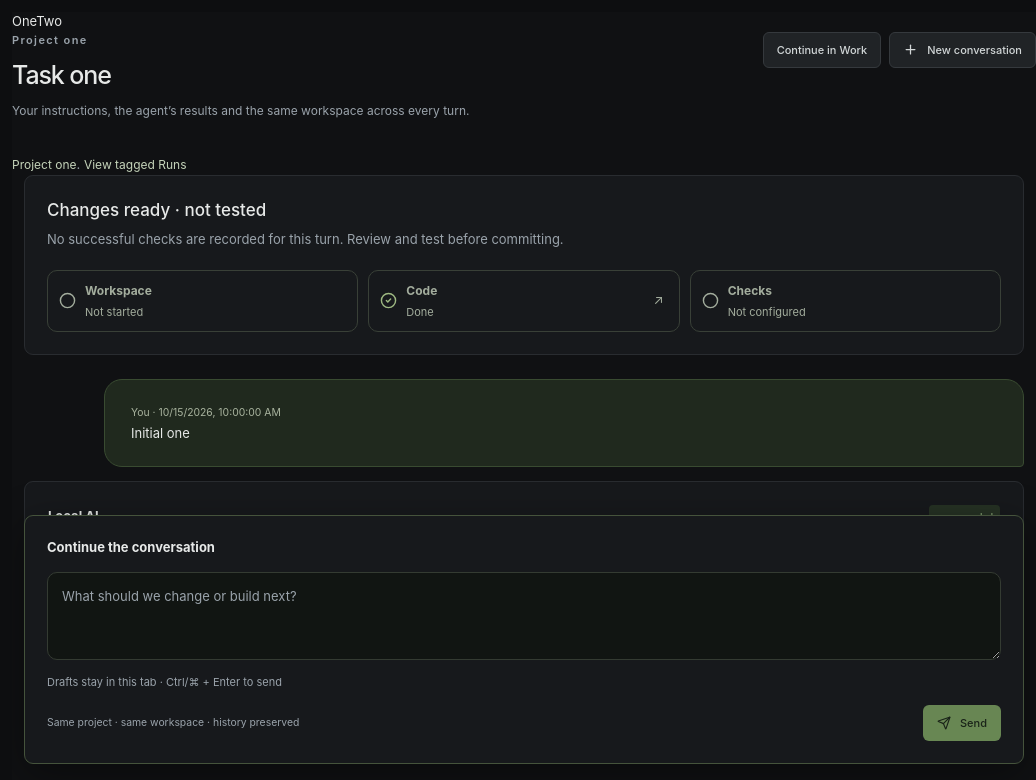
Test case: preserves a newer draft written while an earlier Send is pending
Type "Submitted instruction" into the text box named "Follow-up instruction". click: [524, 616]
box: [47,572,1001,660]
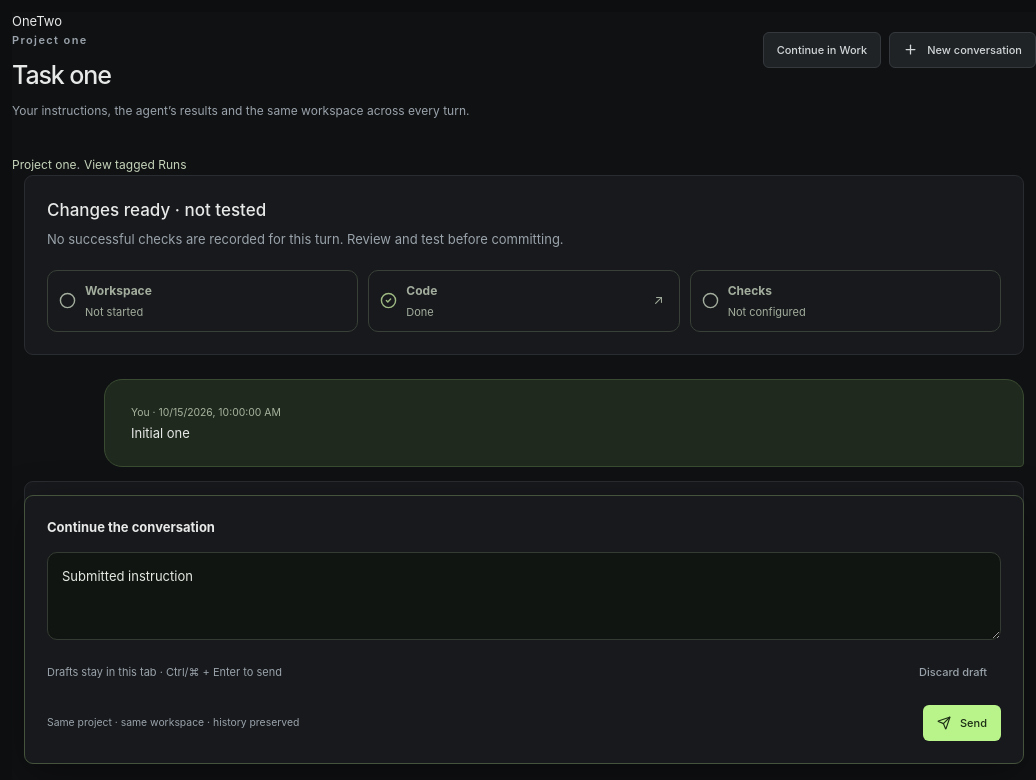
Click the button "Send". click: [962, 723]
box: [923,704,1001,741]
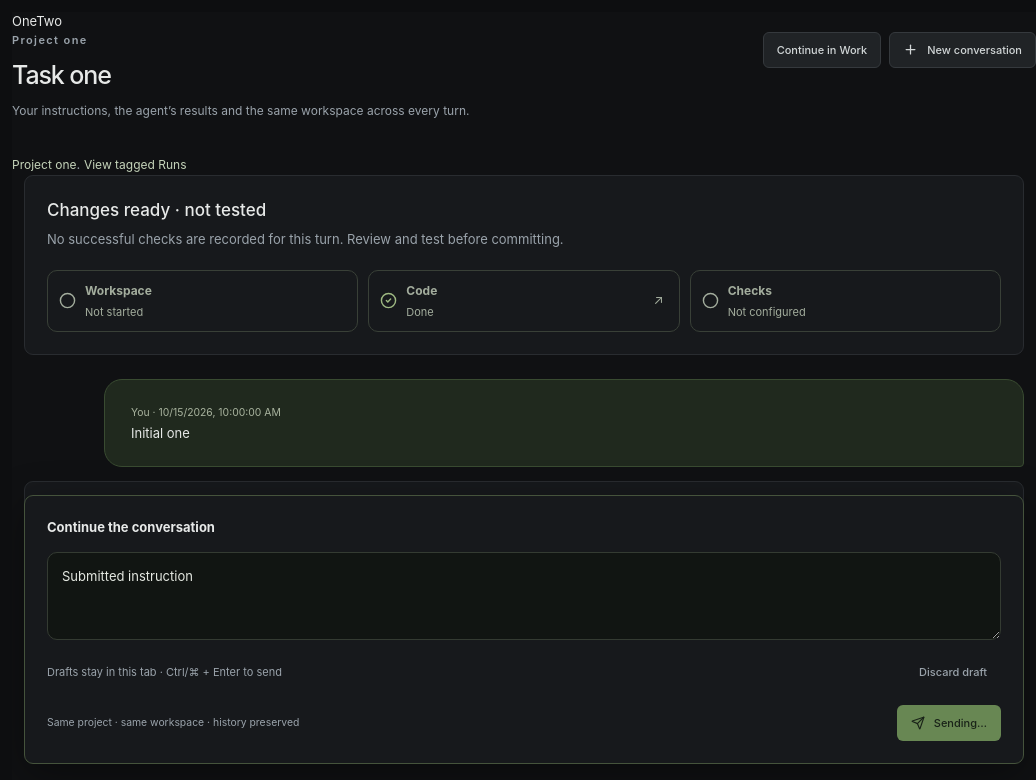
Replace the text in the text box named "Follow-up instruction" with "Next instruction". click: [524, 596]
box: [47,552,1001,640]
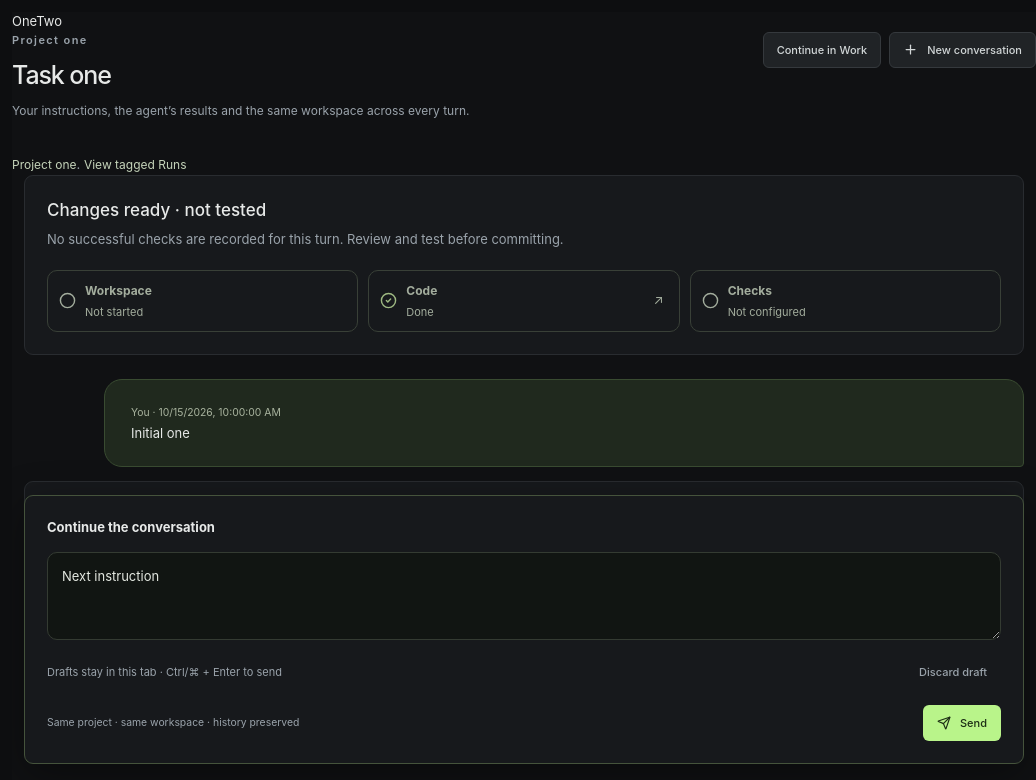
Now the button "Send" is enabled, box [923,704,1001,741]
